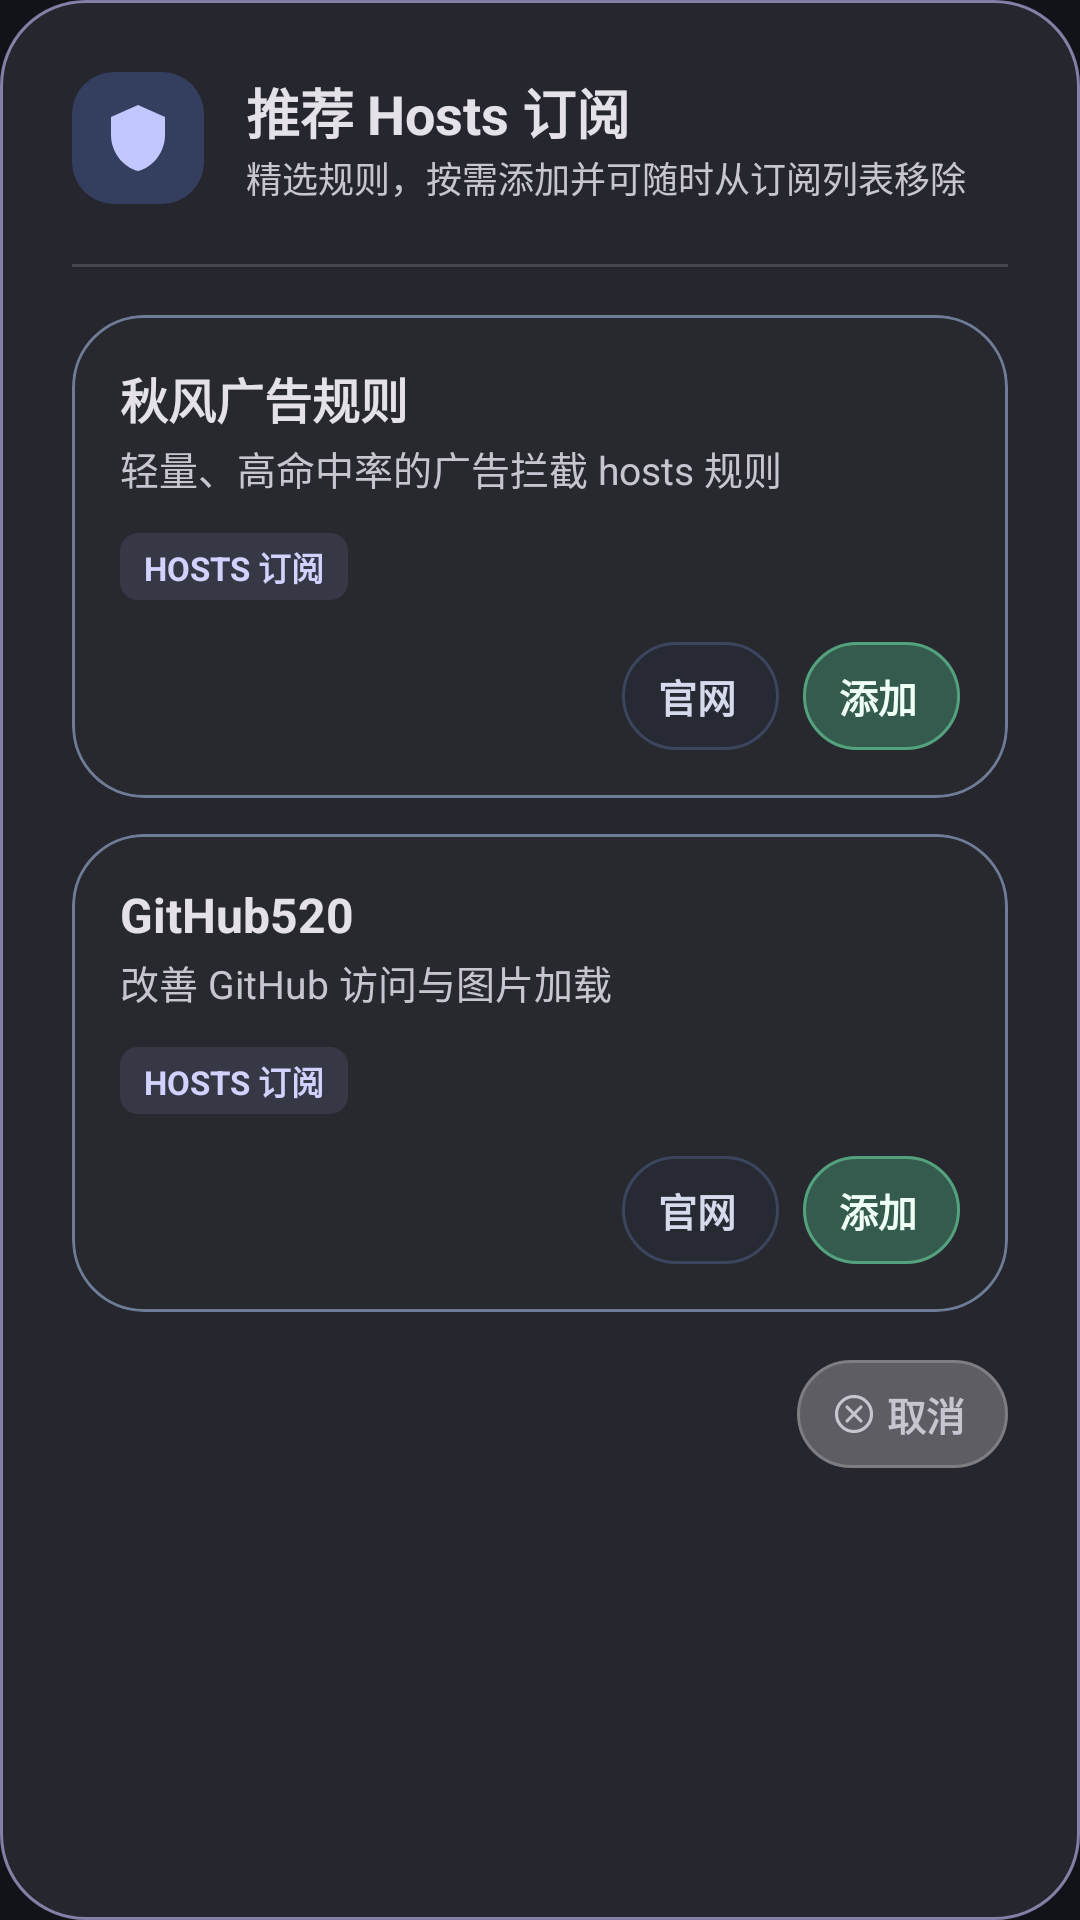

Icon bounding boxes for this 1080px x 1920px phone screenshot, format (x1, y1, x2, y2):
shield: (111, 105, 165, 171)
